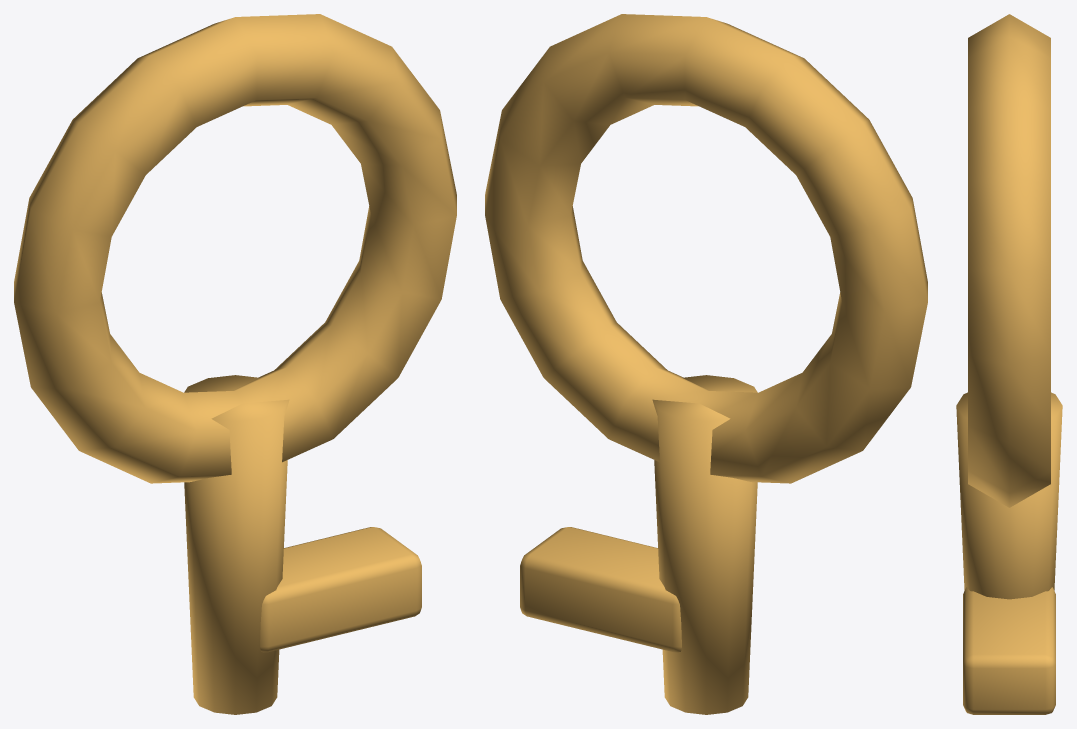
File: key.glb
3 views of the same model, side by side, from view 1: azimuth 30°, elevation 25°; view 2: azimuth 150°, elevation 25°; view 3: azimuth 270°, elevation 25° (orthographic). The views are drawn at different scales.
Visible parts, largest first — view 1: KeyBow, KeyShaft, KeyTooth; view 2: KeyBow, KeyShaft, KeyTooth; view 3: KeyBow, KeyShaft, KeyTooth.
Part boxes in pixels (<box>): KeyBow: <box>14,14,456,483</box>; KeyShaft: <box>184,375,289,714</box>; KeyTooth: <box>260,527,421,652</box>; KeyBow: <box>485,14,927,483</box>; KeyShaft: <box>652,375,757,714</box>; KeyTooth: <box>520,527,681,652</box>; KeyBow: <box>968,14,1050,507</box>; KeyShaft: <box>956,392,1062,599</box>; KeyTooth: <box>963,587,1055,714</box>.
Size of the model in its own units: 0.186 by 0.273 by 0.04.
